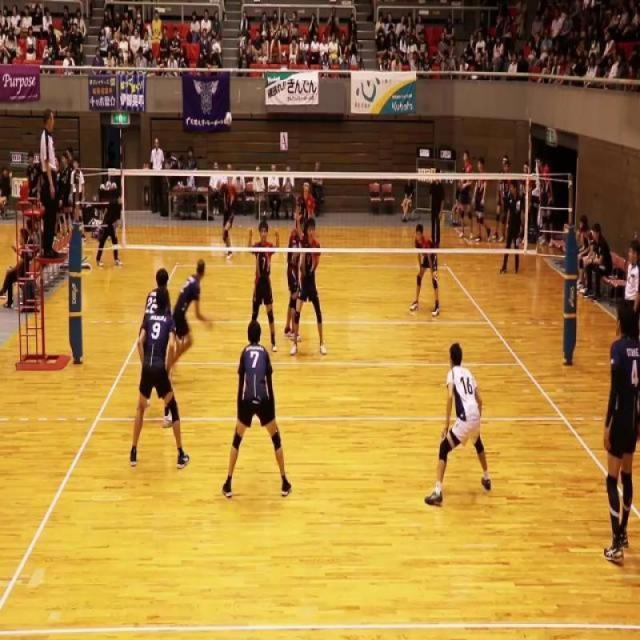volleyball: (225, 110, 232, 128)
